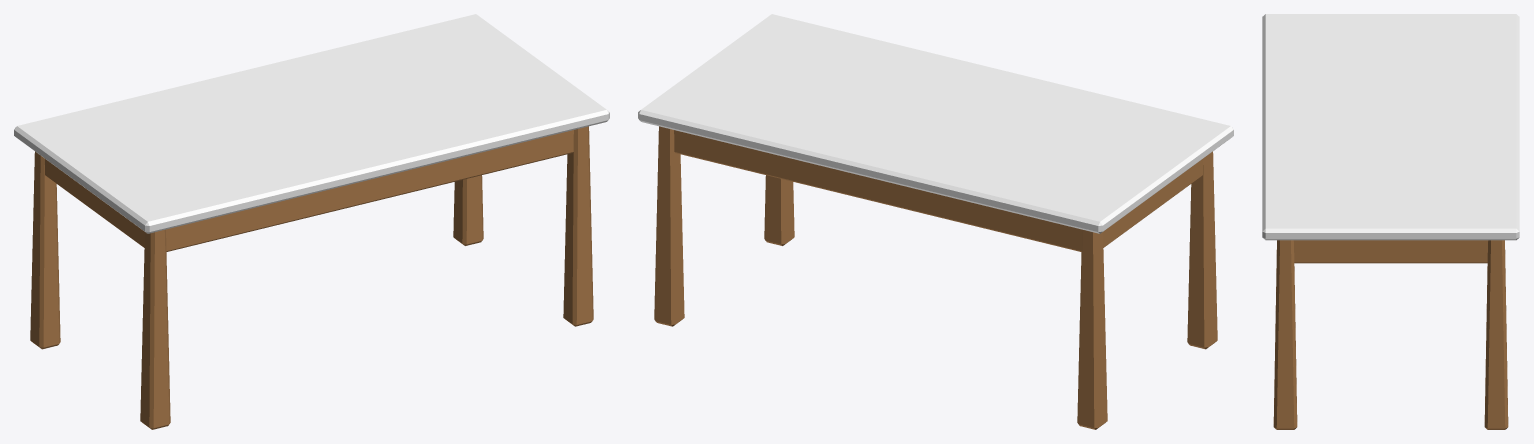
File: kids-table-rect-sm2.glb
3 views of the same model, side by side, from view 1: azimuth 30°, elevation 25°; view 2: azimuth 150°, elevation 25°; view 3: azimuth 270°, elevation 25° (orthographic). The views are drawn at different scales.
Parts seen in each view (by area): view 1: kids-table-rect-sm2.tint, kids-table-rect-sm2.wood; view 2: kids-table-rect-sm2.tint, kids-table-rect-sm2.wood; view 3: kids-table-rect-sm2.tint, kids-table-rect-sm2.wood.
Part boxes in pixels (box(x1,y1,x2,y2)): kids-table-rect-sm2.tint: box(14, 14, 609, 233); kids-table-rect-sm2.wood: box(30, 126, 593, 429); kids-table-rect-sm2.tint: box(638, 14, 1233, 233); kids-table-rect-sm2.wood: box(654, 126, 1217, 429); kids-table-rect-sm2.tint: box(1262, 14, 1519, 240); kids-table-rect-sm2.wood: box(1273, 240, 1508, 429).
Size of the model in its own units: 1.2 by 0.53 by 0.6.
